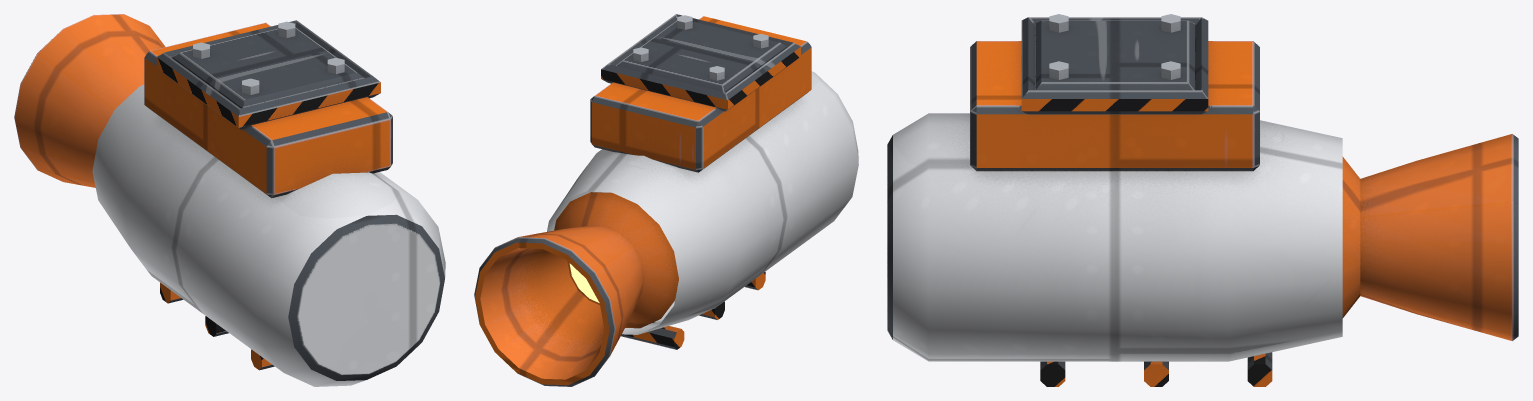
Rendered from motor_retro_t2.fbx.
3 renders of one model, left to right at view 1: azimuth 30°, elevation 25°; view 2: azimuth 150°, elevation 25°; view 3: azimuth 270°, elevation 25°, orthographic. The views are drawn at different scales.
Visible parts, largest first — view 1: motor_retro_t2; view 2: motor_retro_t2, motor_retro_t2_neon; view 3: motor_retro_t2.
Boxes of the visible parts, x1,y1,x2,y2 form: motor_retro_t2: (14,14,445,386); motor_retro_t2: (474,14,858,386); motor_retro_t2_neon: (569,263,599,302); motor_retro_t2: (887,14,1518,386).
Size of the model in its own units: 1.2 by 1.72 by 3.05.
